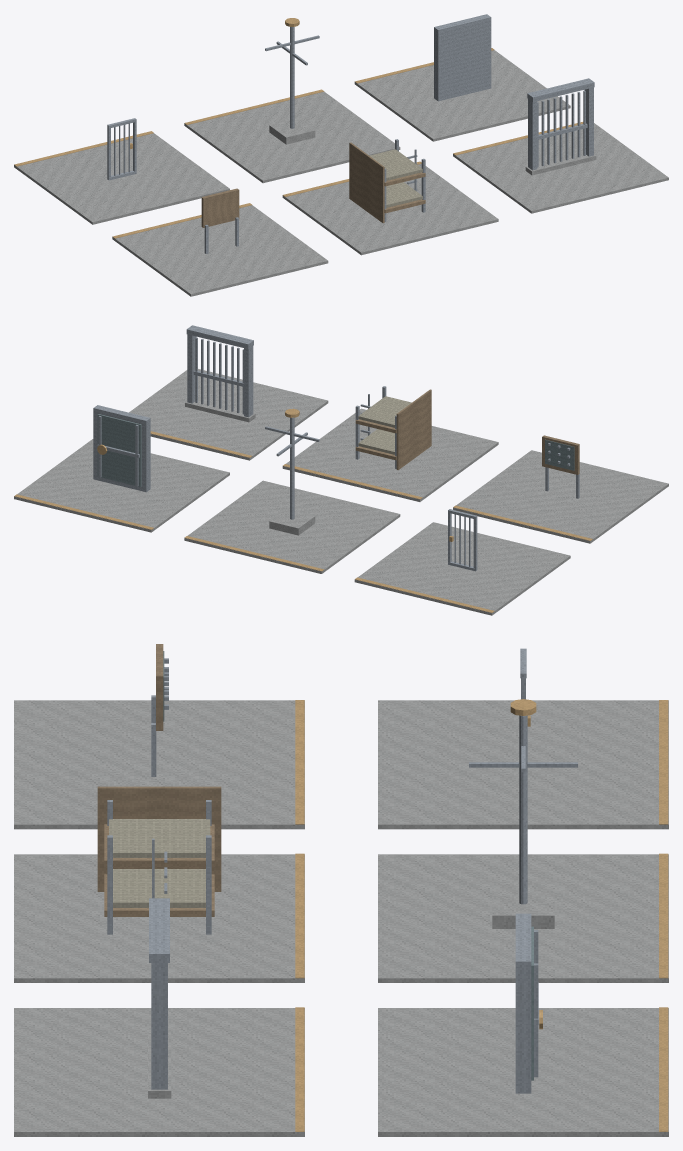
The model's file is level_blockout_kit_wld_17_p01.glb.
3 views of the same model, one above another, from view 1: azimuth 30°, elevation 25°; view 2: azimuth 150°, elevation 25°; view 3: azimuth 270°, elevation 25° (orthographic). The views are drawn at different scales.
Parts seen in each view (by area): view 1: level_blockout_kit_wld_17_p01; view 2: level_blockout_kit_wld_17_p01; view 3: level_blockout_kit_wld_17_p01.
Boxes of the visible parts, x1,y1,x2,y2 form: level_blockout_kit_wld_17_p01: (14, 14, 668, 296); level_blockout_kit_wld_17_p01: (14, 325, 668, 615); level_blockout_kit_wld_17_p01: (14, 644, 668, 1136).
Size of the model in its own units: 19.65 by 4.59 by 12.6.
Materials: 6 (6 with a texture image).
